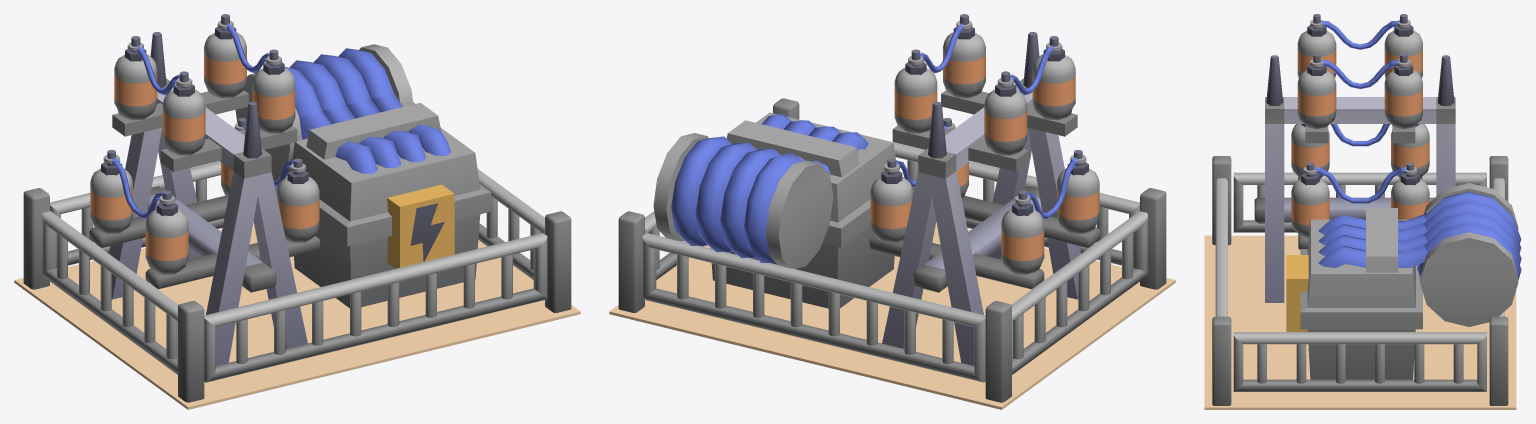
File: Energy_Station.fbx
3 renders of one model, left to right at view 1: azimuth 30°, elevation 25°; view 2: azimuth 150°, elevation 25°; view 3: azimuth 270°, elevation 25°, orthographic. The views are drawn at different scales.
Parts seen in each view (by area): view 1: Energy_Station; view 2: Energy_Station; view 3: Energy_Station.
Part boxes in pixels (<box>): Energy_Station: <box>14,14,580,409</box>; Energy_Station: <box>609,14,1175,409</box>; Energy_Station: <box>1204,14,1521,409</box>.
Bounding box in the file's own units: 1.47 × 0.9882 × 1.14.
